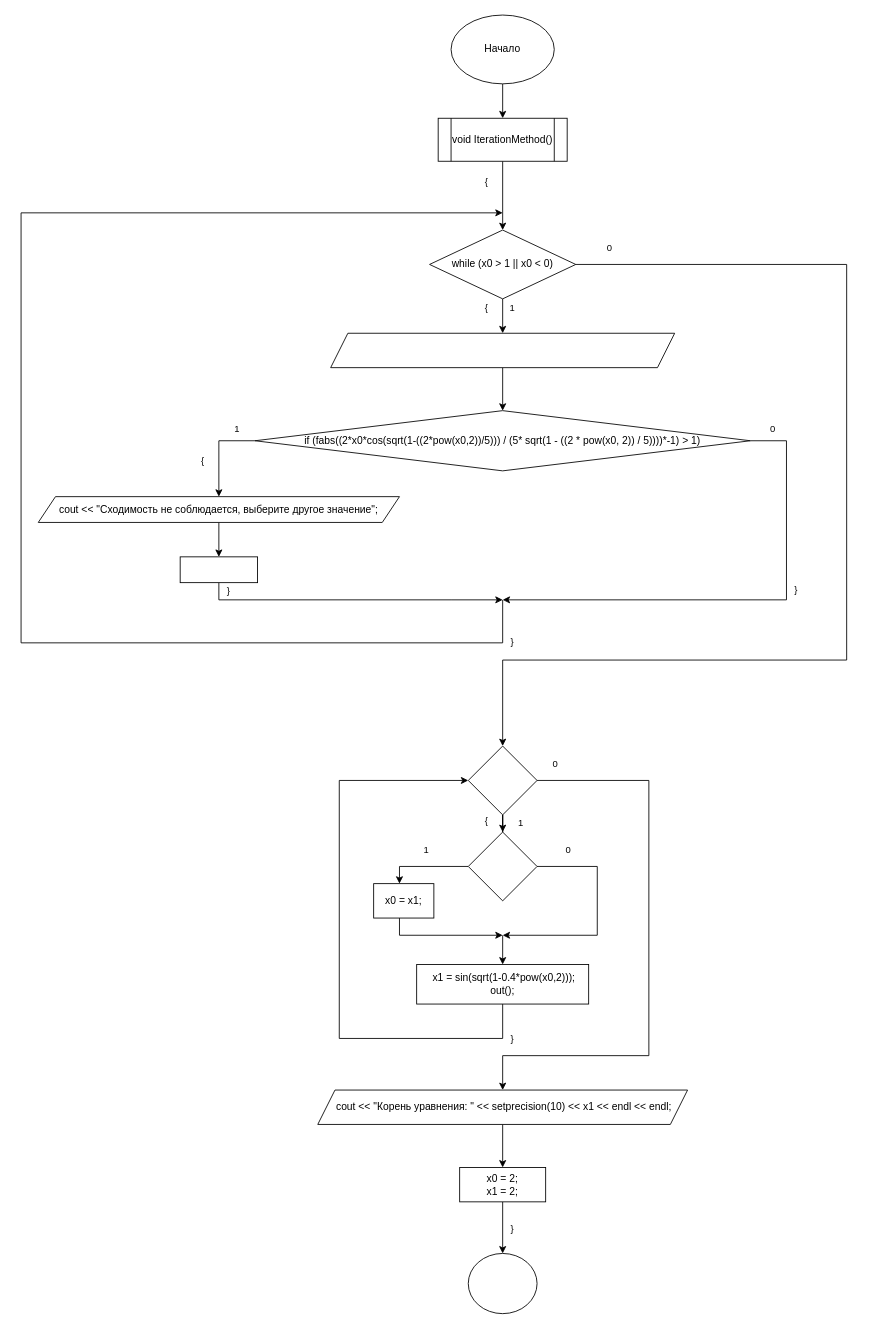
The diagram is 869 pixels wide and 1329 high, and some of its shapes have lost their labels. Each missing label, with the centre of its shape:
cout << "Введите произвольную точку на отрезке [0;1]" << endl; cin >> x0;: (502,350)
do: (502,780)
if (x1 != 2): (502,866)
x0 = 2;: (218,569)
Конец: (502,1283)
